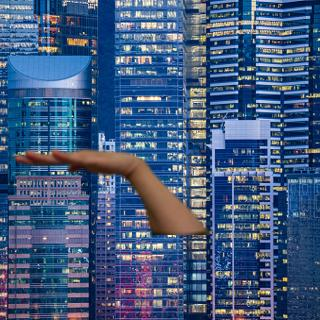WAIT: (9, 141, 147, 181)
